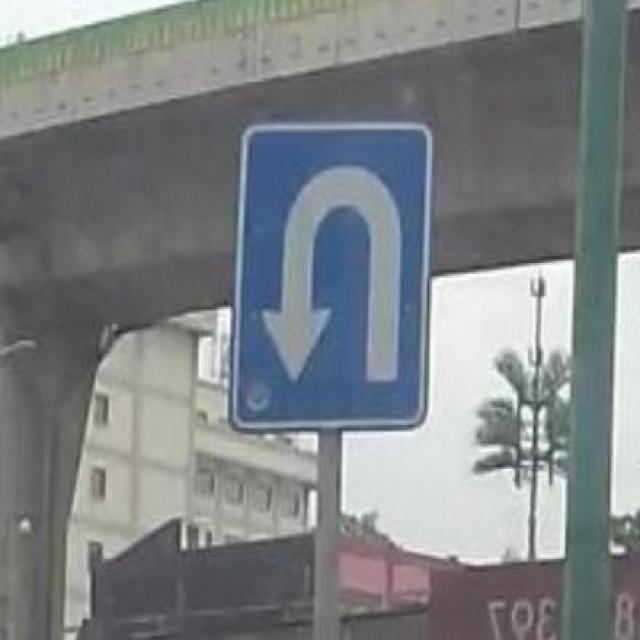U-turn: (238, 125, 425, 427)
